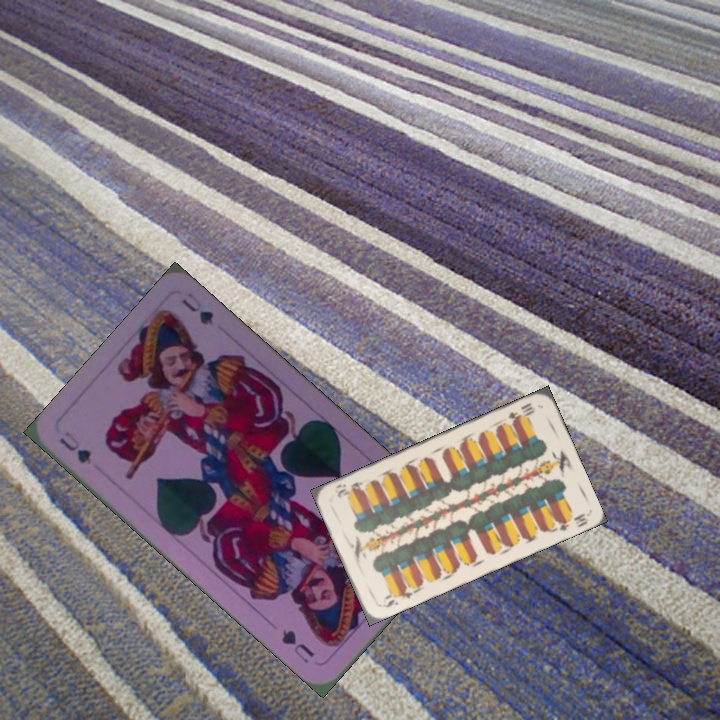E10: (378, 583, 416, 610), (504, 399, 538, 426)
GU: (55, 427, 94, 468)
